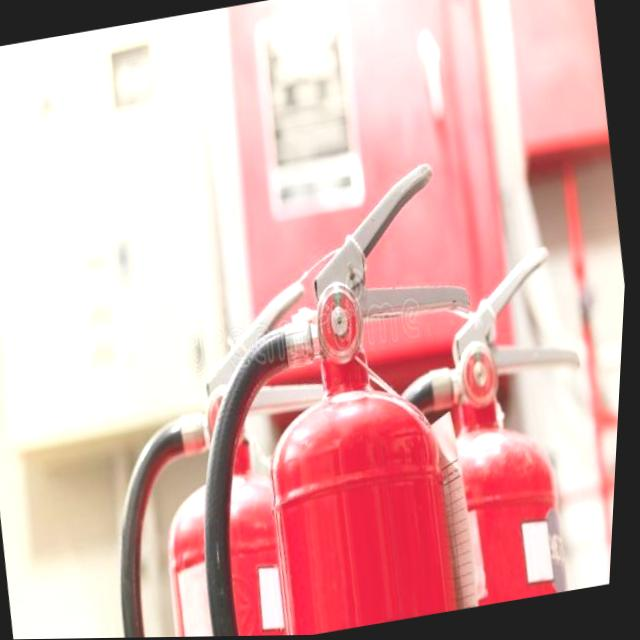FireExtinguisher: (148, 152, 531, 638), (77, 269, 400, 639), (330, 235, 629, 624)
